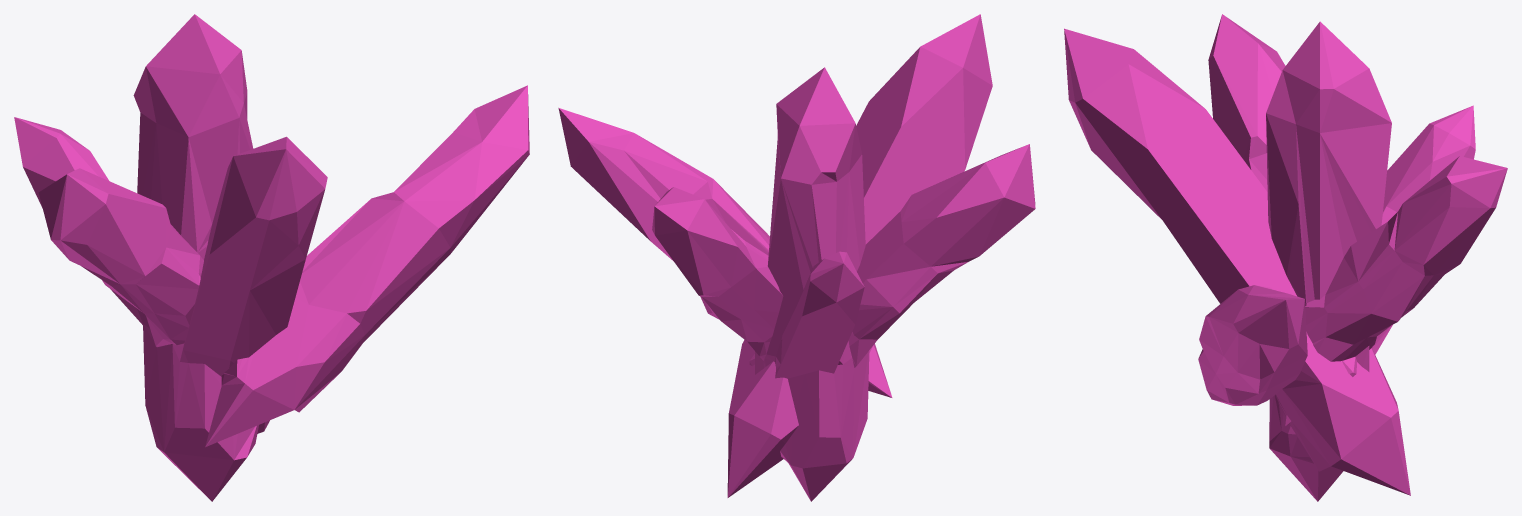
The model's file is SM_CrystalsFormation_D.fbx.
3 renders of one model, left to right at view 1: azimuth 30°, elevation 25°; view 2: azimuth 150°, elevation 25°; view 3: azimuth 270°, elevation 25°, orthographic. The views are drawn at different scales.
Visible parts, largest first — view 1: SM_CrystalsFormation_D; view 2: SM_CrystalsFormation_D; view 3: SM_CrystalsFormation_D.
Boxes of the visible parts, x1,y1,x2,y2 form: SM_CrystalsFormation_D: [14, 14, 529, 501]; SM_CrystalsFormation_D: [558, 14, 1035, 501]; SM_CrystalsFormation_D: [1064, 14, 1507, 501].
Size of the model in its own units: 56.73 by 52.69 by 44.81.
